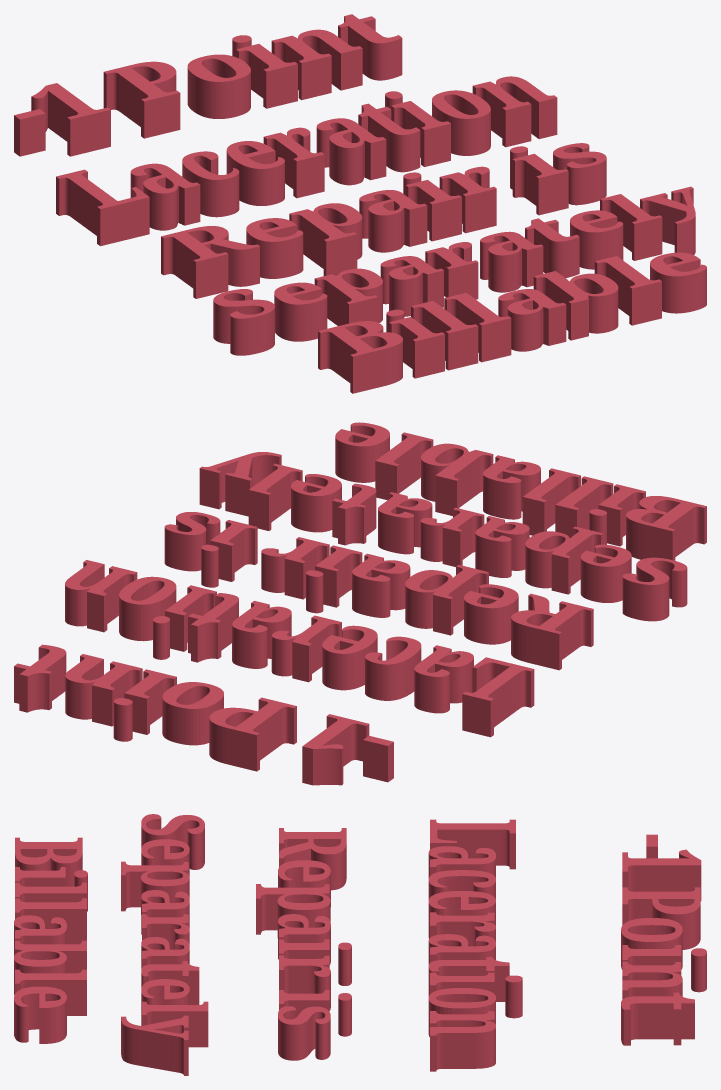
The model's file is nelac.gltf.
The picture shows the model from 3 angles, top to bottom: view 1: azimuth 30°, elevation 25°; view 2: azimuth 150°, elevation 25°; view 3: azimuth 270°, elevation 25°; orthographic projection. The views are drawn at different scales.
Visible parts, largest first — view 1: Mesh_Mesh_head_geo001_lambert2SG001; view 2: Mesh_Mesh_head_geo001_lambert2SG001; view 3: Mesh_Mesh_head_geo001_lambert2SG001.
Boxes of the visible parts, x1,y1,x2,y2 form: Mesh_Mesh_head_geo001_lambert2SG001: [14, 14, 706, 393]; Mesh_Mesh_head_geo001_lambert2SG001: [14, 422, 706, 785]; Mesh_Mesh_head_geo001_lambert2SG001: [14, 814, 706, 1075].
Bounding box in the file's own units: 135 × 10 × 175.
